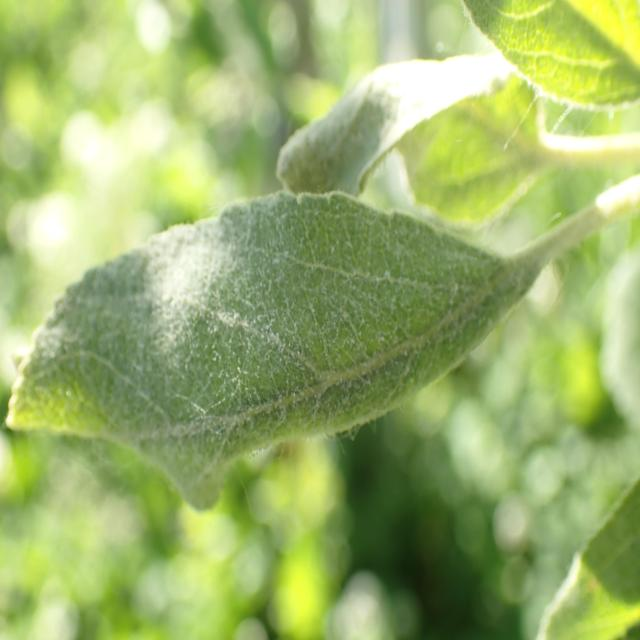Powdery_mildew: (0, 190, 544, 477), (268, 43, 560, 196)
